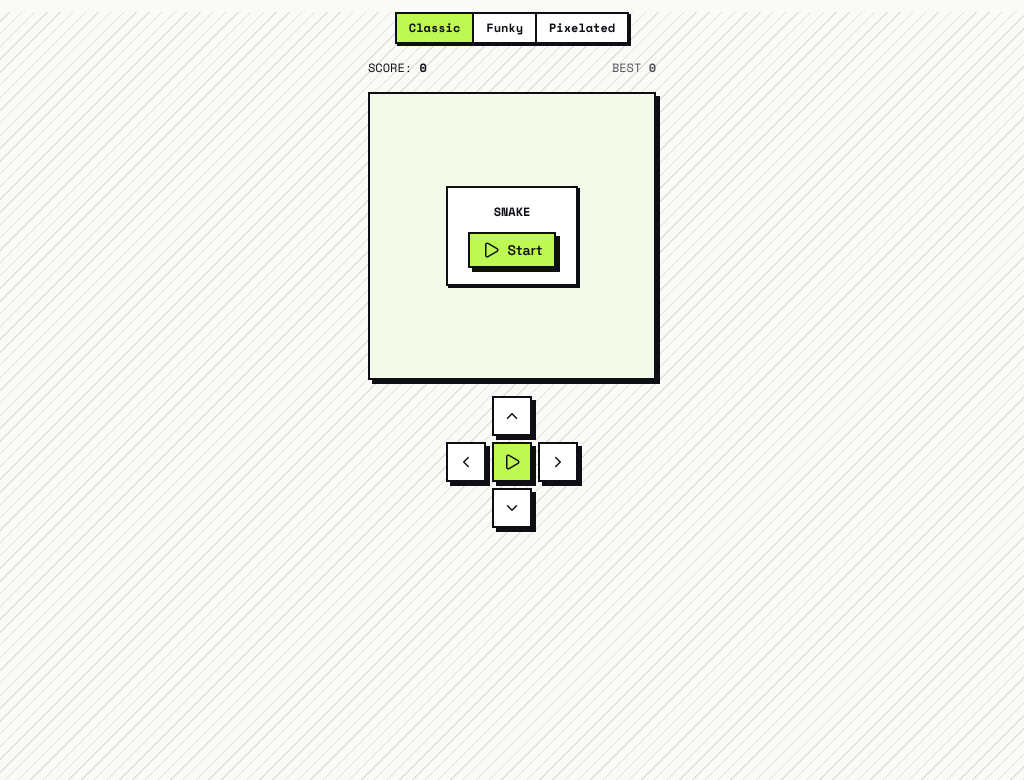
Scenario: SnakeLab › left alone, the snake runs into the wall and the game ends
The image size is (1024, 780).
Click the button "Start". click: click(512, 250)
box: top-left (468, 232), bottom-right (556, 268)
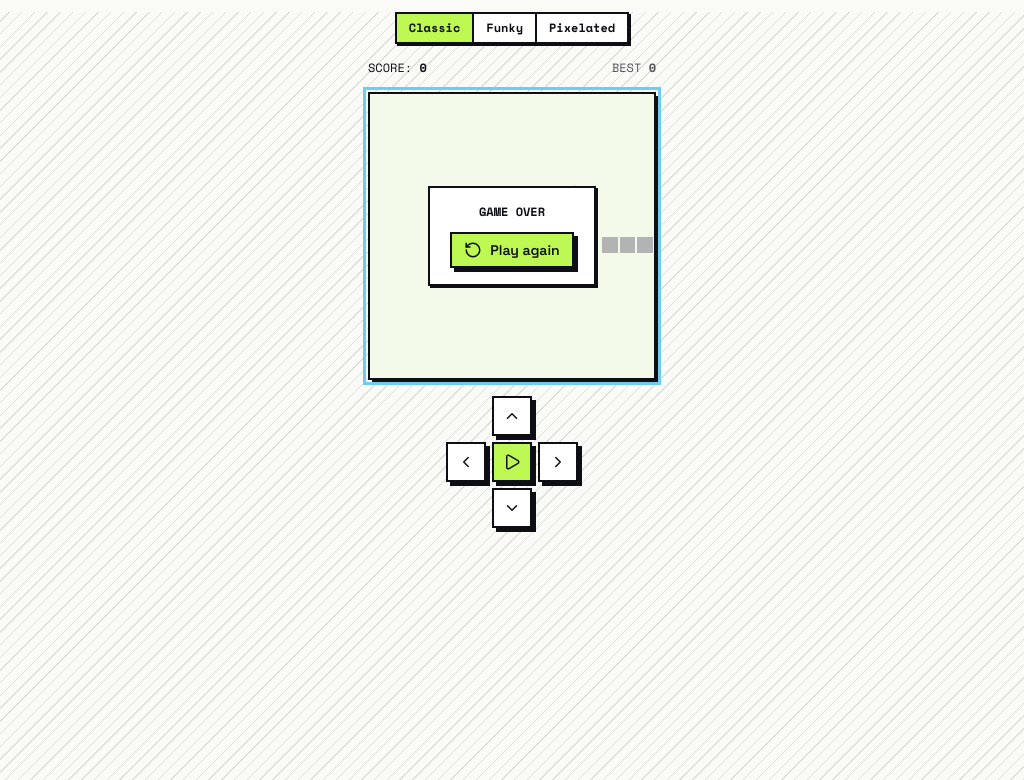
Result: the button "Play again" is shown at top-left (450, 232), bottom-right (574, 268)
